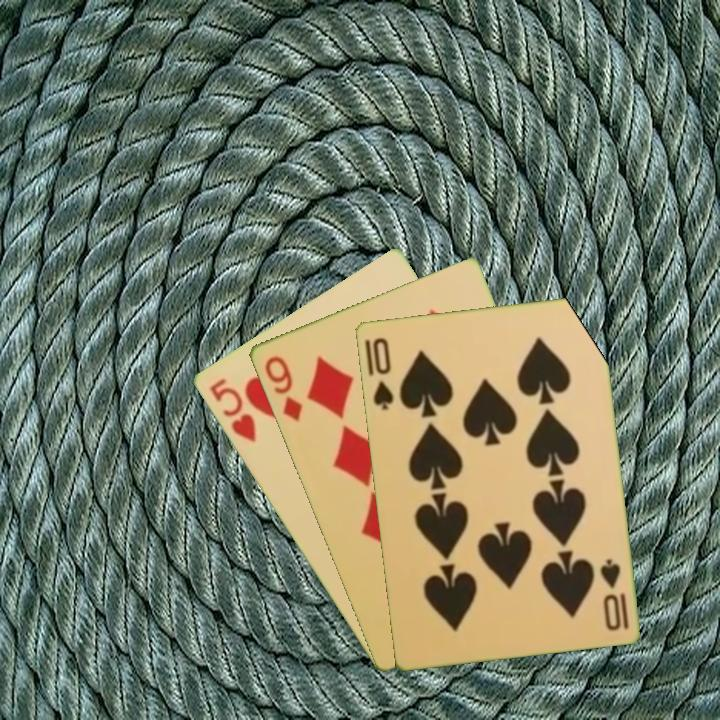10s: (596, 555, 631, 633), (368, 333, 396, 413)
5h: (205, 374, 259, 445)
9d: (260, 352, 305, 425)
